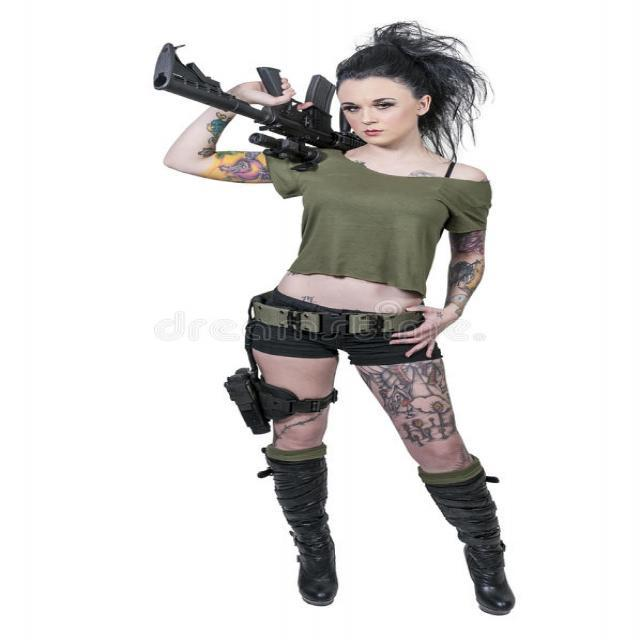weapon: (148, 38, 354, 164)
